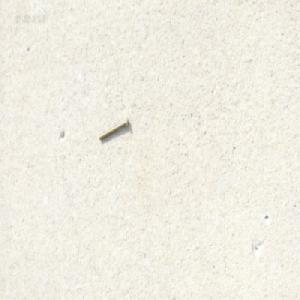Bolt: (98, 116, 128, 141)
